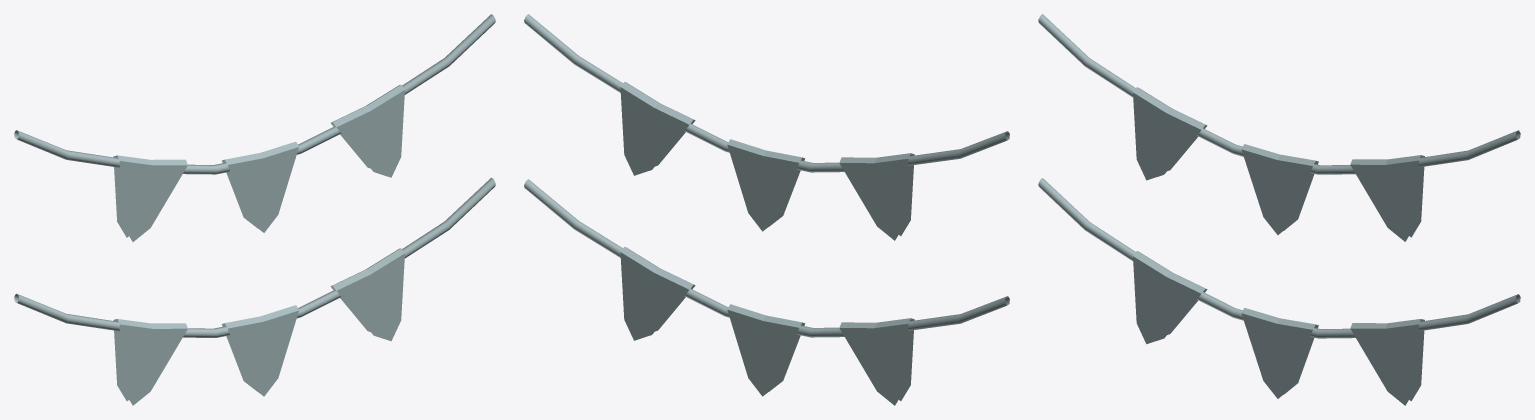
The model's file is market flag garlands.fbx.
3 renders of one model, left to right at view 1: azimuth 30°, elevation 25°; view 2: azimuth 150°, elevation 25°; view 3: azimuth 330°, elevation 25°, orthographic.
Visible parts, largest first — view 1: land flag garland, aquatic flag garland; view 2: aquatic flag garland, land flag garland; view 3: aquatic flag garland, land flag garland.
Part boxes in pixels (bbox=[...]): land flag garland: bbox=[14, 14, 495, 241]; aquatic flag garland: bbox=[14, 177, 495, 405]; aquatic flag garland: bbox=[524, 179, 1009, 405]; land flag garland: bbox=[524, 14, 1009, 240]; aquatic flag garland: bbox=[1038, 178, 1520, 405]; land flag garland: bbox=[1038, 14, 1520, 241].
Size of the model in its own units: 436 by 280 by 12.44.
